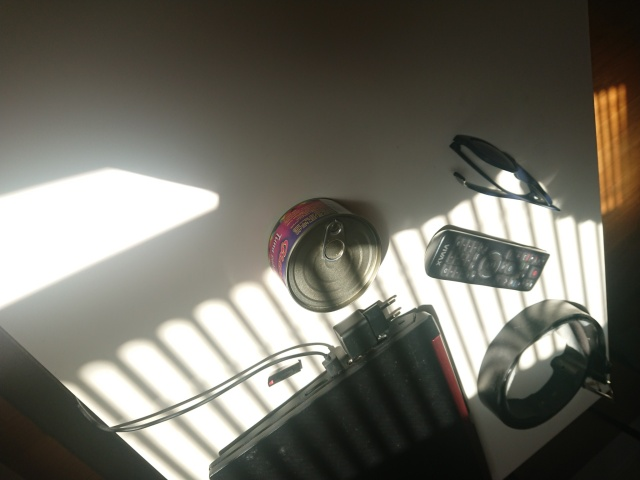Giana Tuna Salad Mexico 185g: (266, 196, 385, 316)
